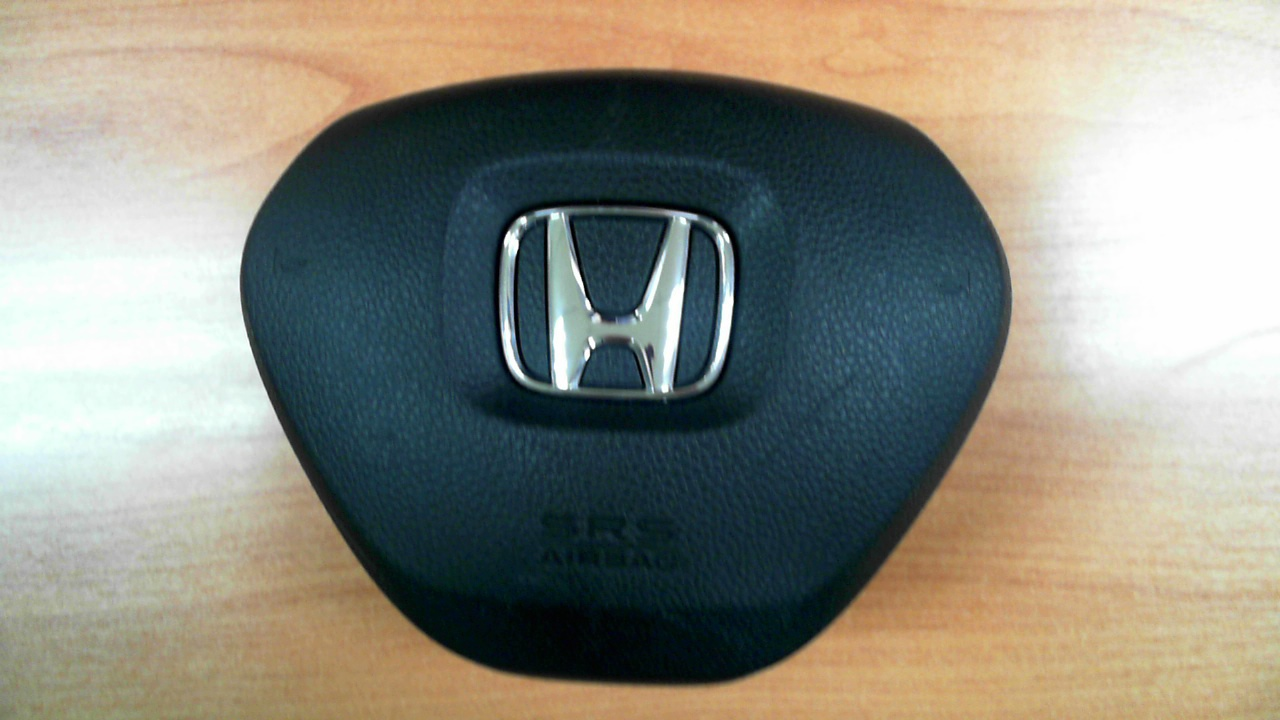Airbag: (237, 69, 1014, 687)
Honda: (498, 204, 736, 401)
